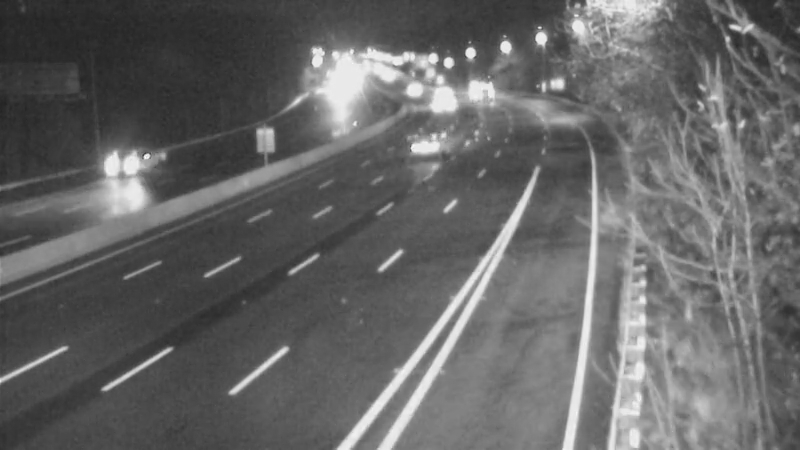vehicle: (72, 125, 152, 205), (452, 61, 502, 111), (388, 65, 438, 115), (419, 65, 469, 115), (413, 74, 463, 124), (396, 118, 446, 168), (313, 68, 363, 118)
